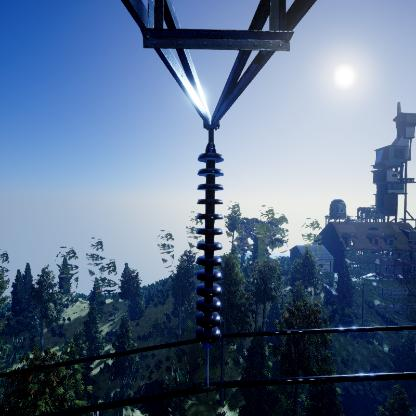insulator: (192, 150, 228, 345)
